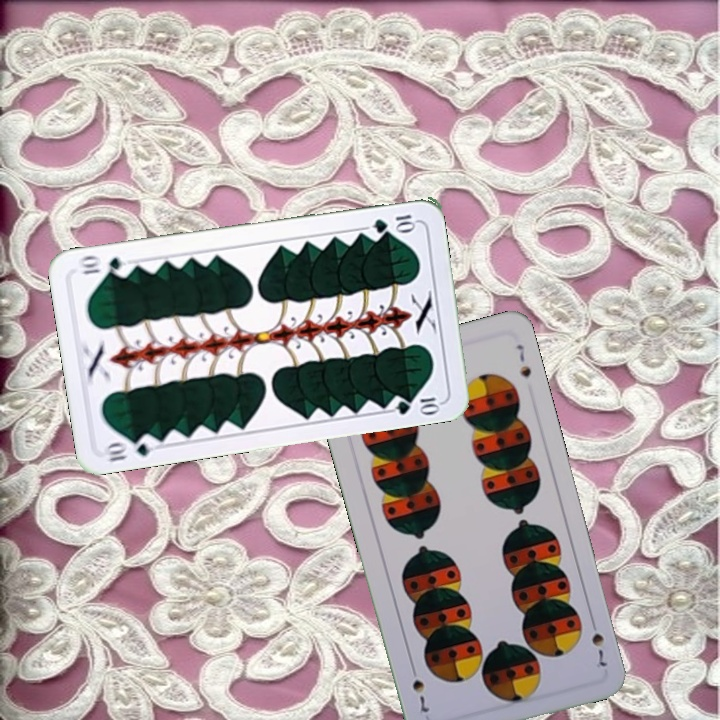G10: (100, 431, 159, 464), (369, 210, 418, 236)
S7: (586, 614, 610, 670)
